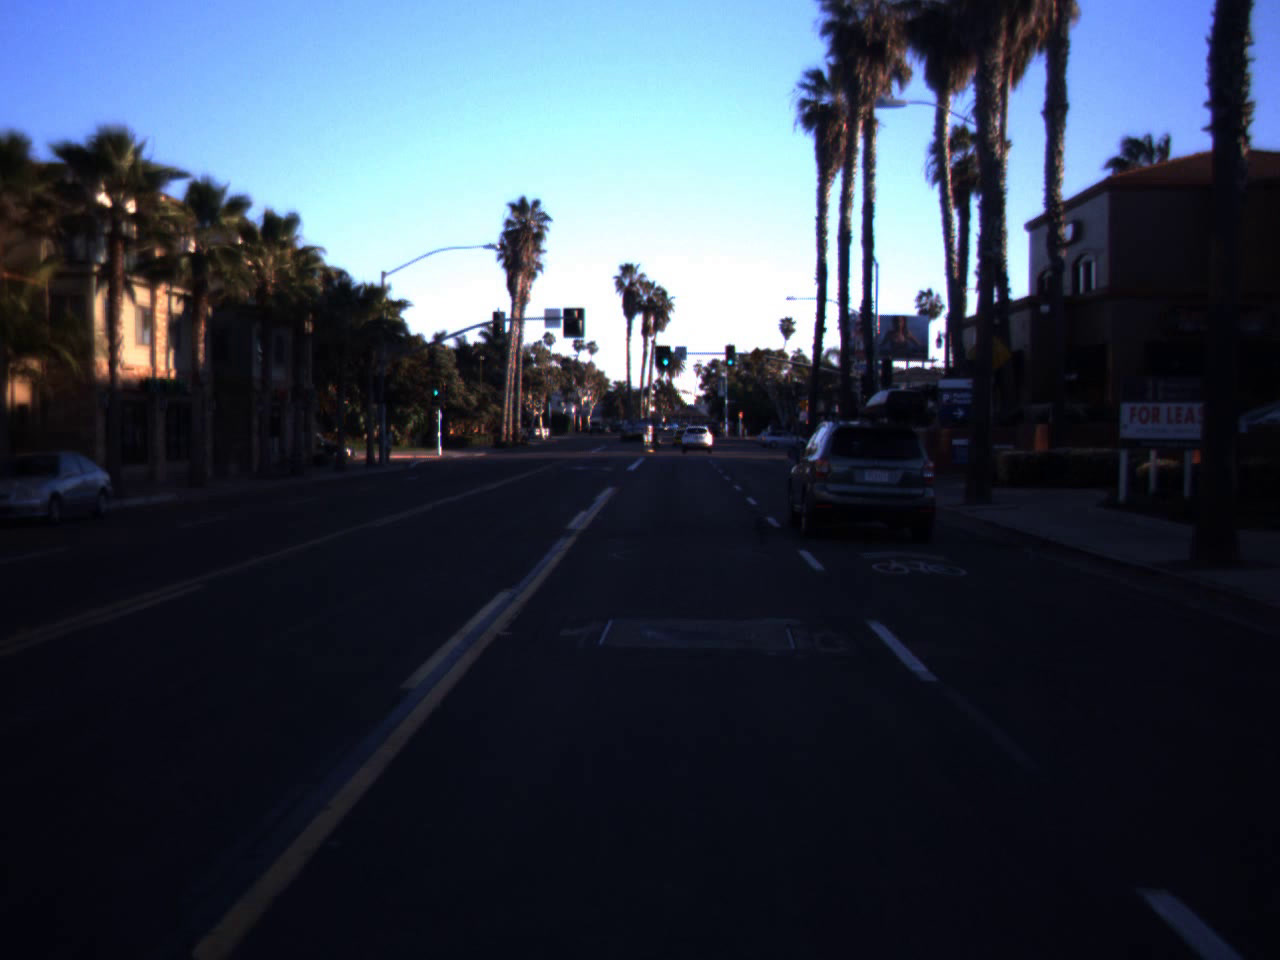go: (660, 342, 672, 367), (724, 346, 736, 366)
